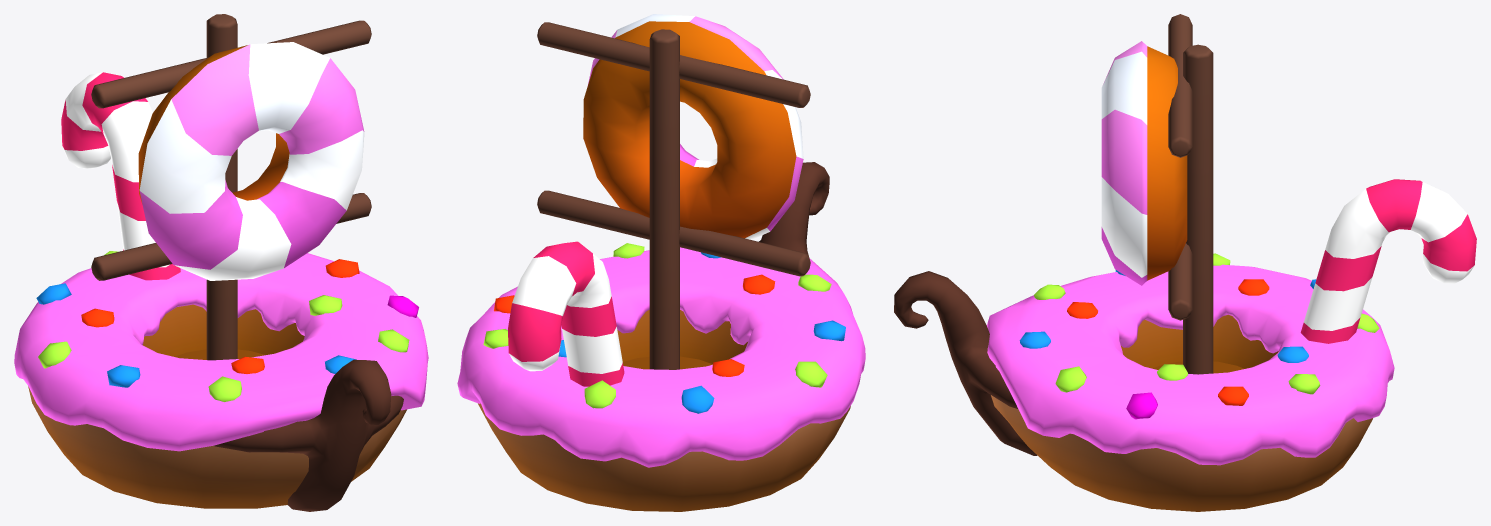
The model's file is SweetBoat_03.glb.
The picture shows the model from 3 angles, left to right: view 1: azimuth 30°, elevation 25°; view 2: azimuth 150°, elevation 25°; view 3: azimuth 270°, elevation 25°; orthographic projection. The views are drawn at different scales.
Visible parts, largest first — view 1: SweetBoat_03; view 2: SweetBoat_03; view 3: SweetBoat_03.
Boxes of the visible parts, box(x1,y1,x2,y2) form: SweetBoat_03: box(14, 14, 428, 511); SweetBoat_03: box(457, 14, 865, 511); SweetBoat_03: box(894, 14, 1476, 511).
Bounding box in the file's own units: 5.18 × 5.96 × 7.68.
2 materials, 2 textured.
